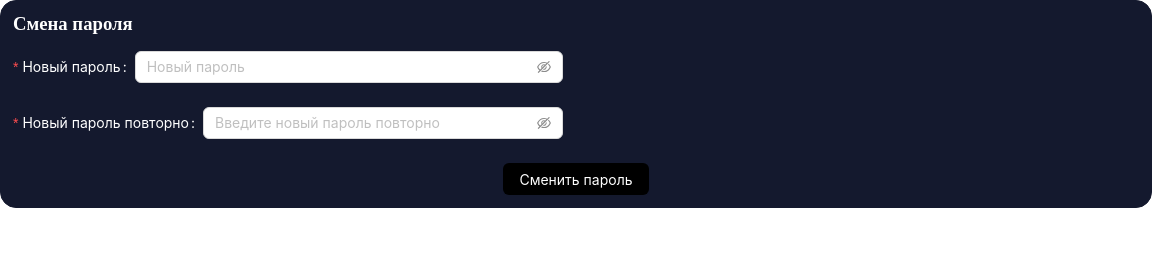
Test: ResetPasswordForm tests › displays error message if there is server error
In the password field with placeholder "Новый пароль": (340, 67) [147,56,533,78], type "testpass"
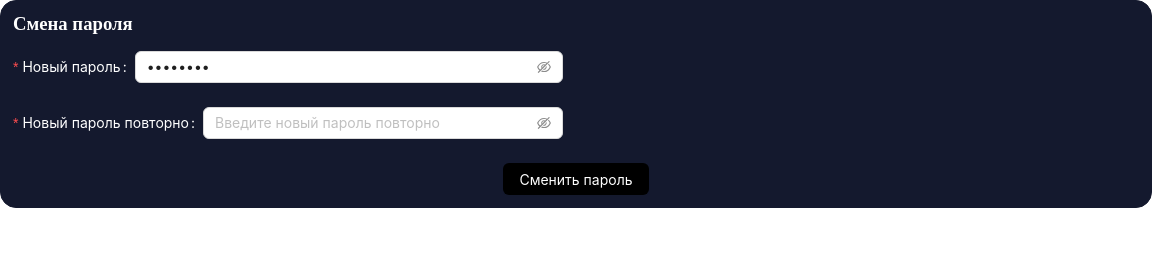
In the password field with placeholder "Введите новый пароль повторно": (374, 123) [215,112,533,134], type "testpass"
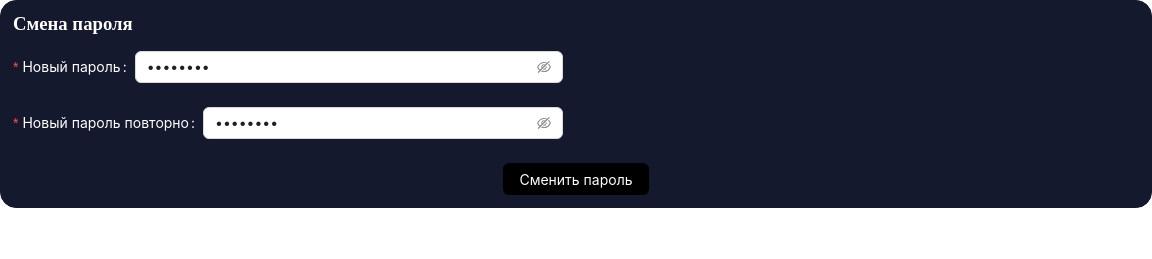
Click the button "Сменить пароль": (576, 179) [503,163,648,195]
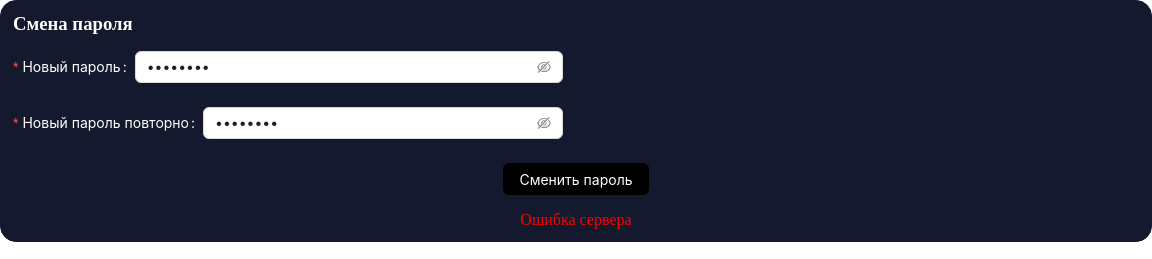
expect the text "Ошибка сервера" is shown: met, box [520,211,632,229]
